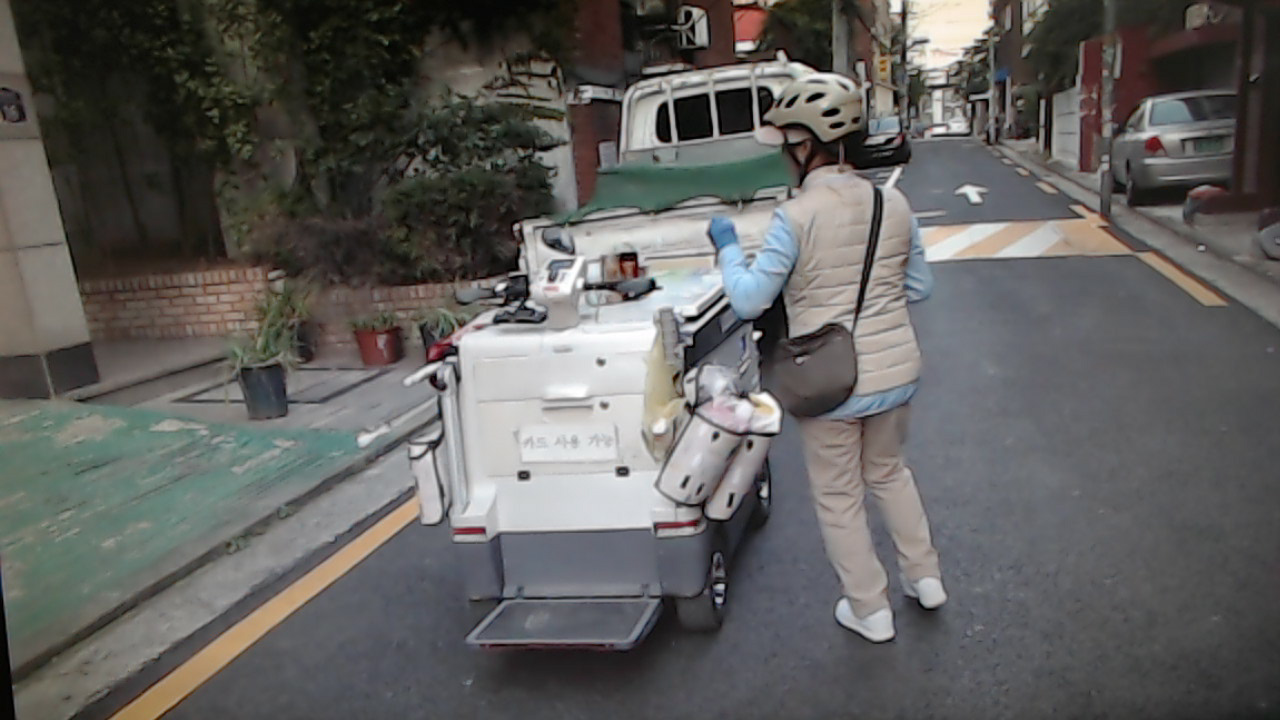Yakurut: (705, 72, 966, 655)
